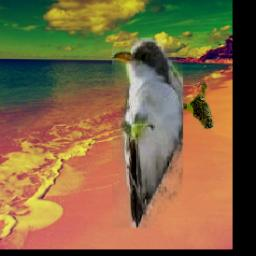Cuckoo: (112, 39, 183, 229)
Sparrow: (177, 82, 215, 129)
